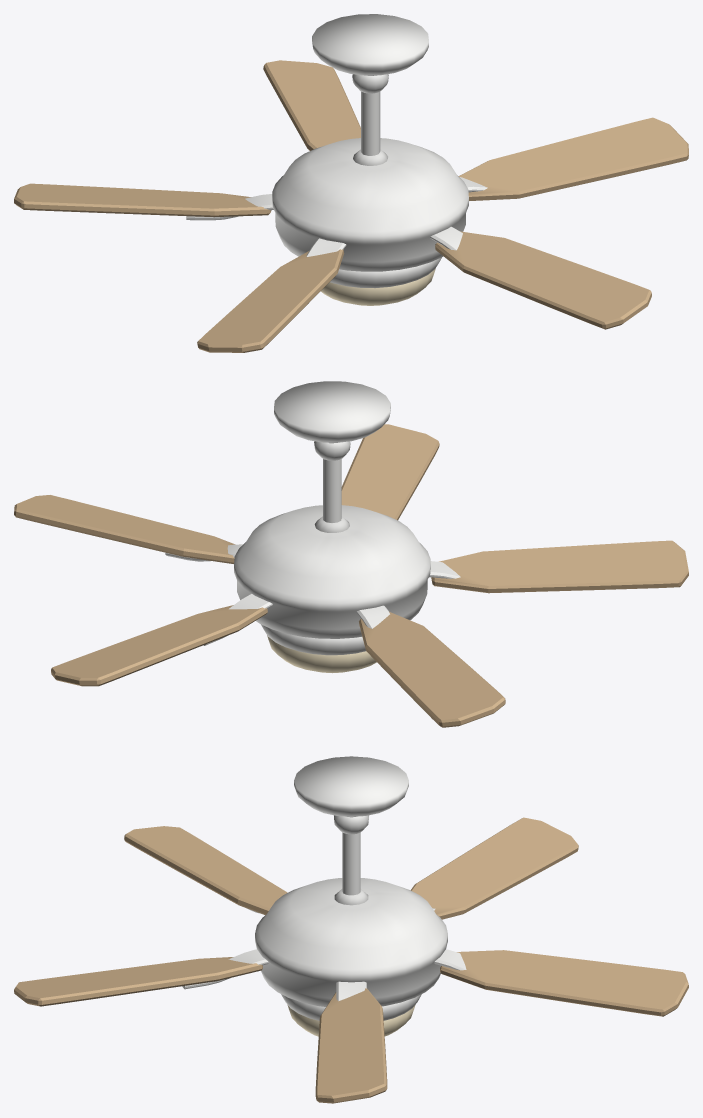
Rendered from ceilingFan.glb.
3 views of the same model, one above another, from view 1: azimuth 30°, elevation 25°; view 2: azimuth 150°, elevation 25°; view 3: azimuth 270°, elevation 25° (orthographic). The views are drawn at different scales.
Parts seen in each view (by area): view 1: blades, ceilingFan; view 2: blades, ceilingFan; view 3: blades, ceilingFan.
Boxes of the visible parts, <box> form: blades: <box>14,60,688,352</box>; ceilingFan: <box>272,14,468,305</box>; blades: <box>14,424,688,727</box>; ceilingFan: <box>234,381,430,673</box>; blades: <box>14,817,688,1103</box>; ceilingFan: <box>255,756,447,1036</box>.
Size of the model in its own units: 0.8951 by 0.385 by 0.9381.
